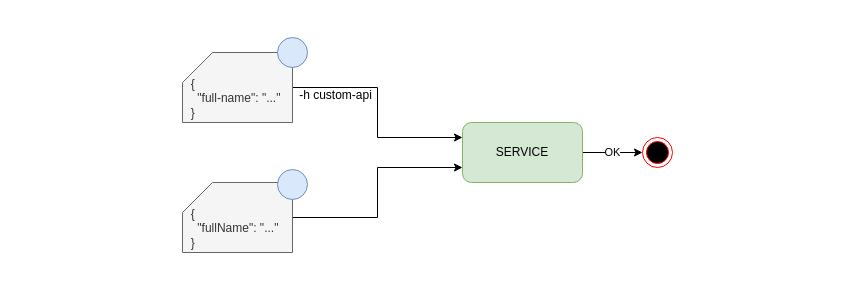
The diagram is 854 pixels wide and 304 high, and some of its shapes have lost their labels. The box of each missing label's shape, as (x1, y1, x2, y2) in pixels:
v1: (276, 36, 308, 68)
v2: (276, 168, 308, 200)
